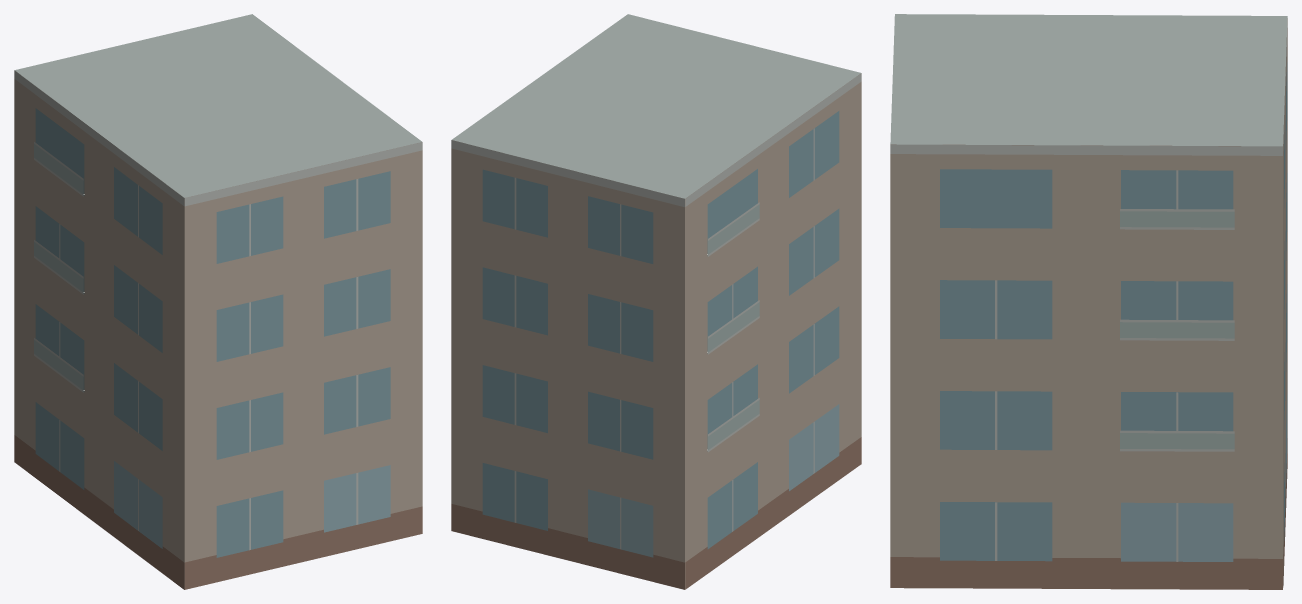
The model's file is survey-upis-32599177.glb.
3 views of the same model, side by side, from view 1: azimuth 30°, elevation 25°; view 2: azimuth 150°, elevation 25°; view 3: azimuth 270°, elevation 25° (orthographic). The views are drawn at different scales.
Visible parts, largest first — view 1: survey-upis-32599177.tmp; view 2: survey-upis-32599177.tmp; view 3: survey-upis-32599177.tmp.
Boxes of the visible parts, x1,y1,x2,y2 form: survey-upis-32599177.tmp: (14,14,422,589); survey-upis-32599177.tmp: (451,14,861,589); survey-upis-32599177.tmp: (890,14,1287,589).
Bounding box in the file's own units: 7.23 × 11.25 × 9.14.
